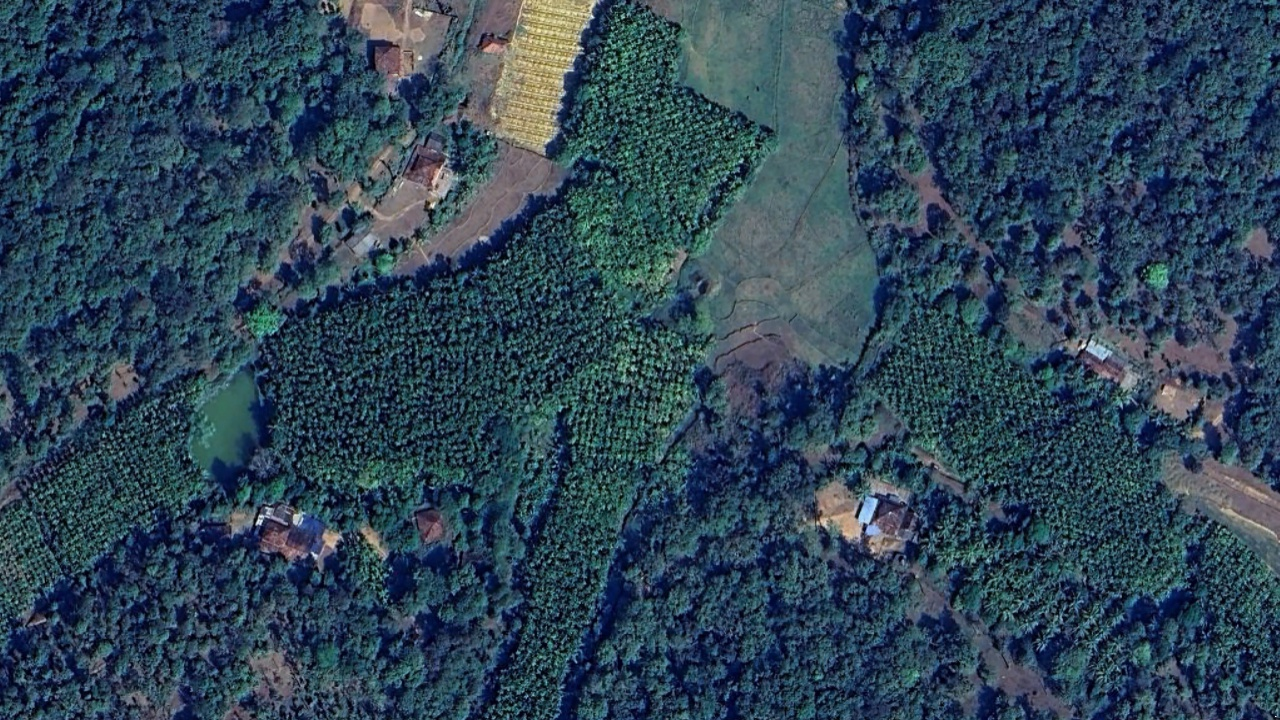arecanut: (262, 7, 797, 473), (872, 302, 1200, 598), (5, 373, 217, 637), (486, 459, 639, 720), (551, 327, 712, 481), (1200, 520, 1280, 707)
